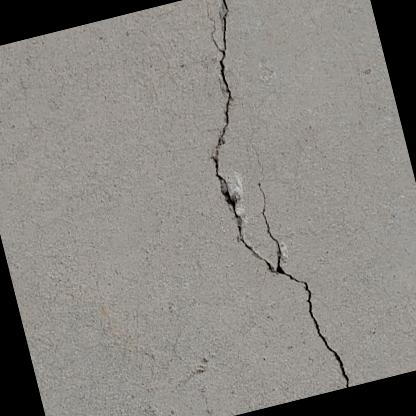crack: (211, 0, 350, 388)
